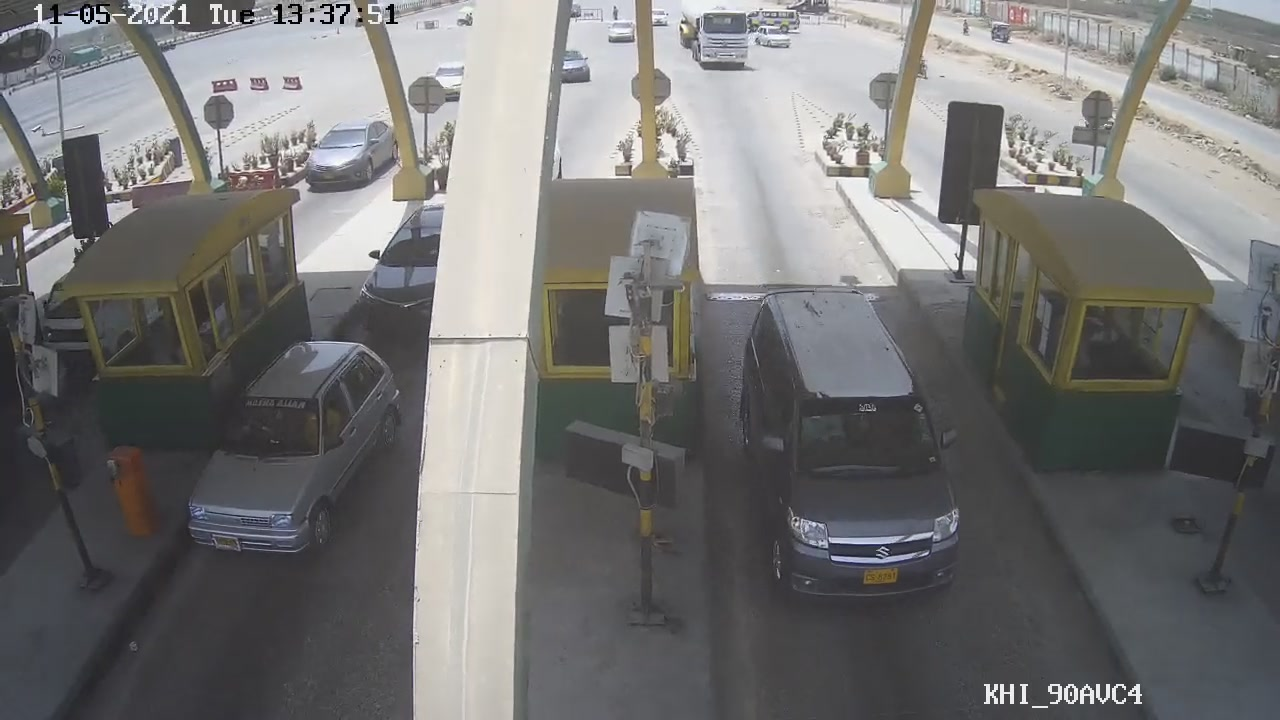F1: (739, 282, 972, 618)
